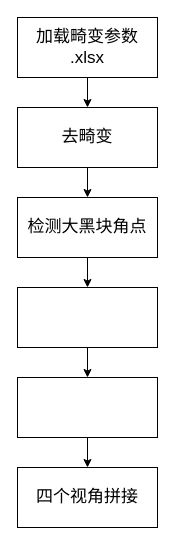
Some shapes in this 175 by 545 pixel diagram are drawn without their labels. The centre of each missing label's shape, as x and y in pixels:
"映射为俯视视角" belongs at [87,407].
"计算与标定版角点的变换矩阵" belongs at [87,317].
